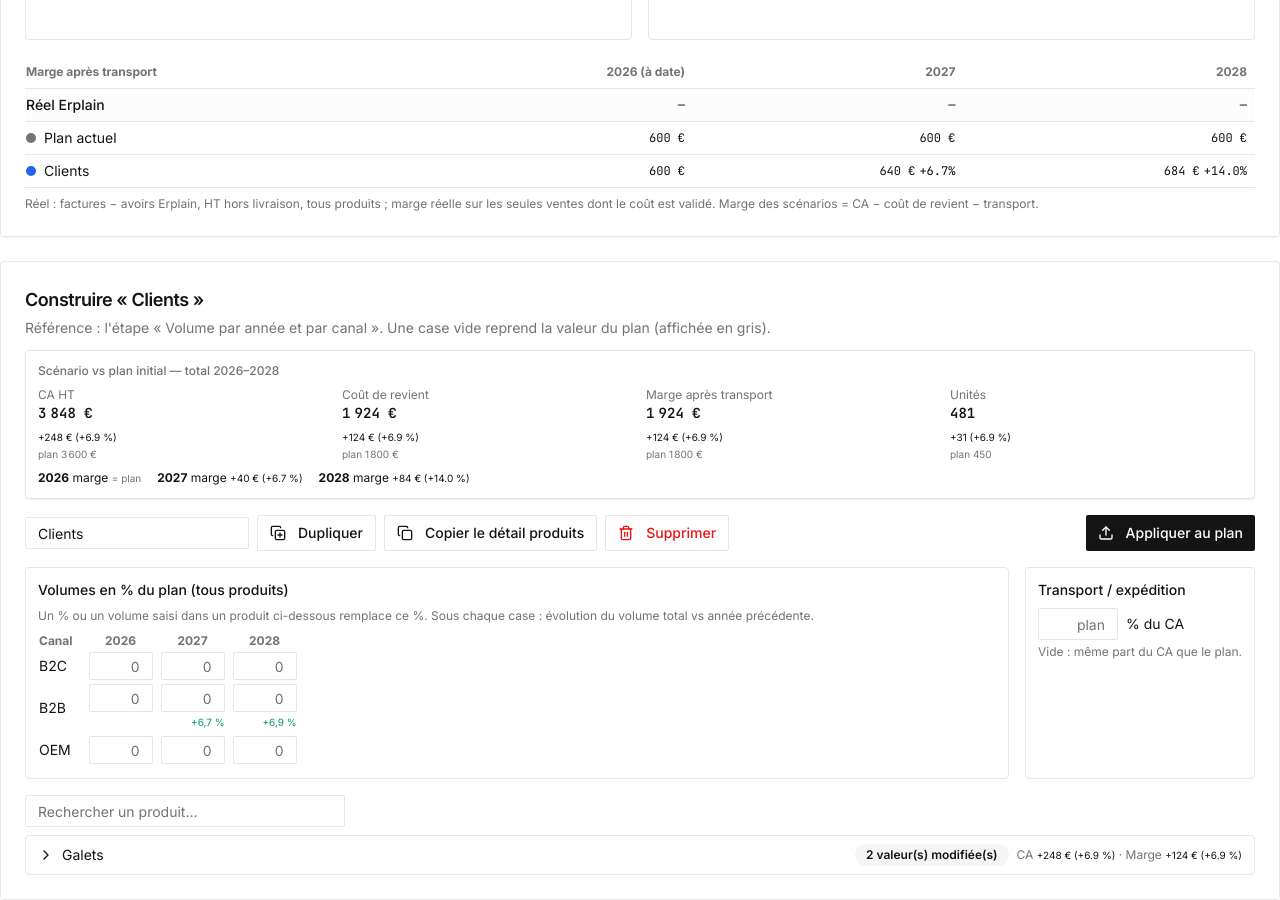
Test: saisie de croissance des clients dans un scénario › ajuste un client, recopie son taux et retrouve les taux après réouverture
Earlier steps of the test are not shown.
Later steps or results of the test are not shown.
(page scrolled)
Click the button "Galets".
click(83, 854)  # box [26, 836, 1254, 874]
(page scrolled)
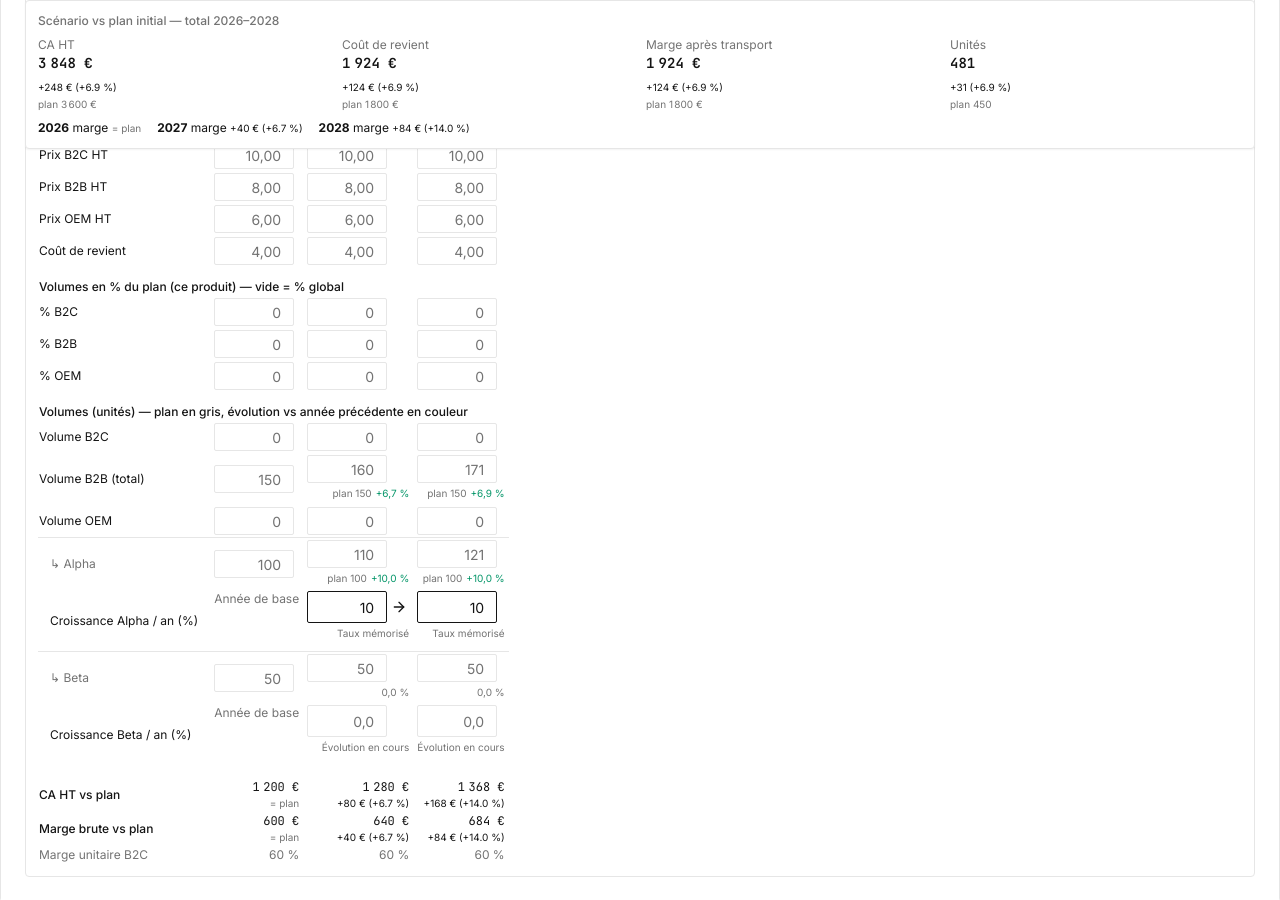
expect the field named "Croissance Alpha 2027" holds "10": met, box [307, 591, 387, 623]
expect the field named "Croissance Alpha 2028" holds "10": met, box [417, 591, 497, 623]
